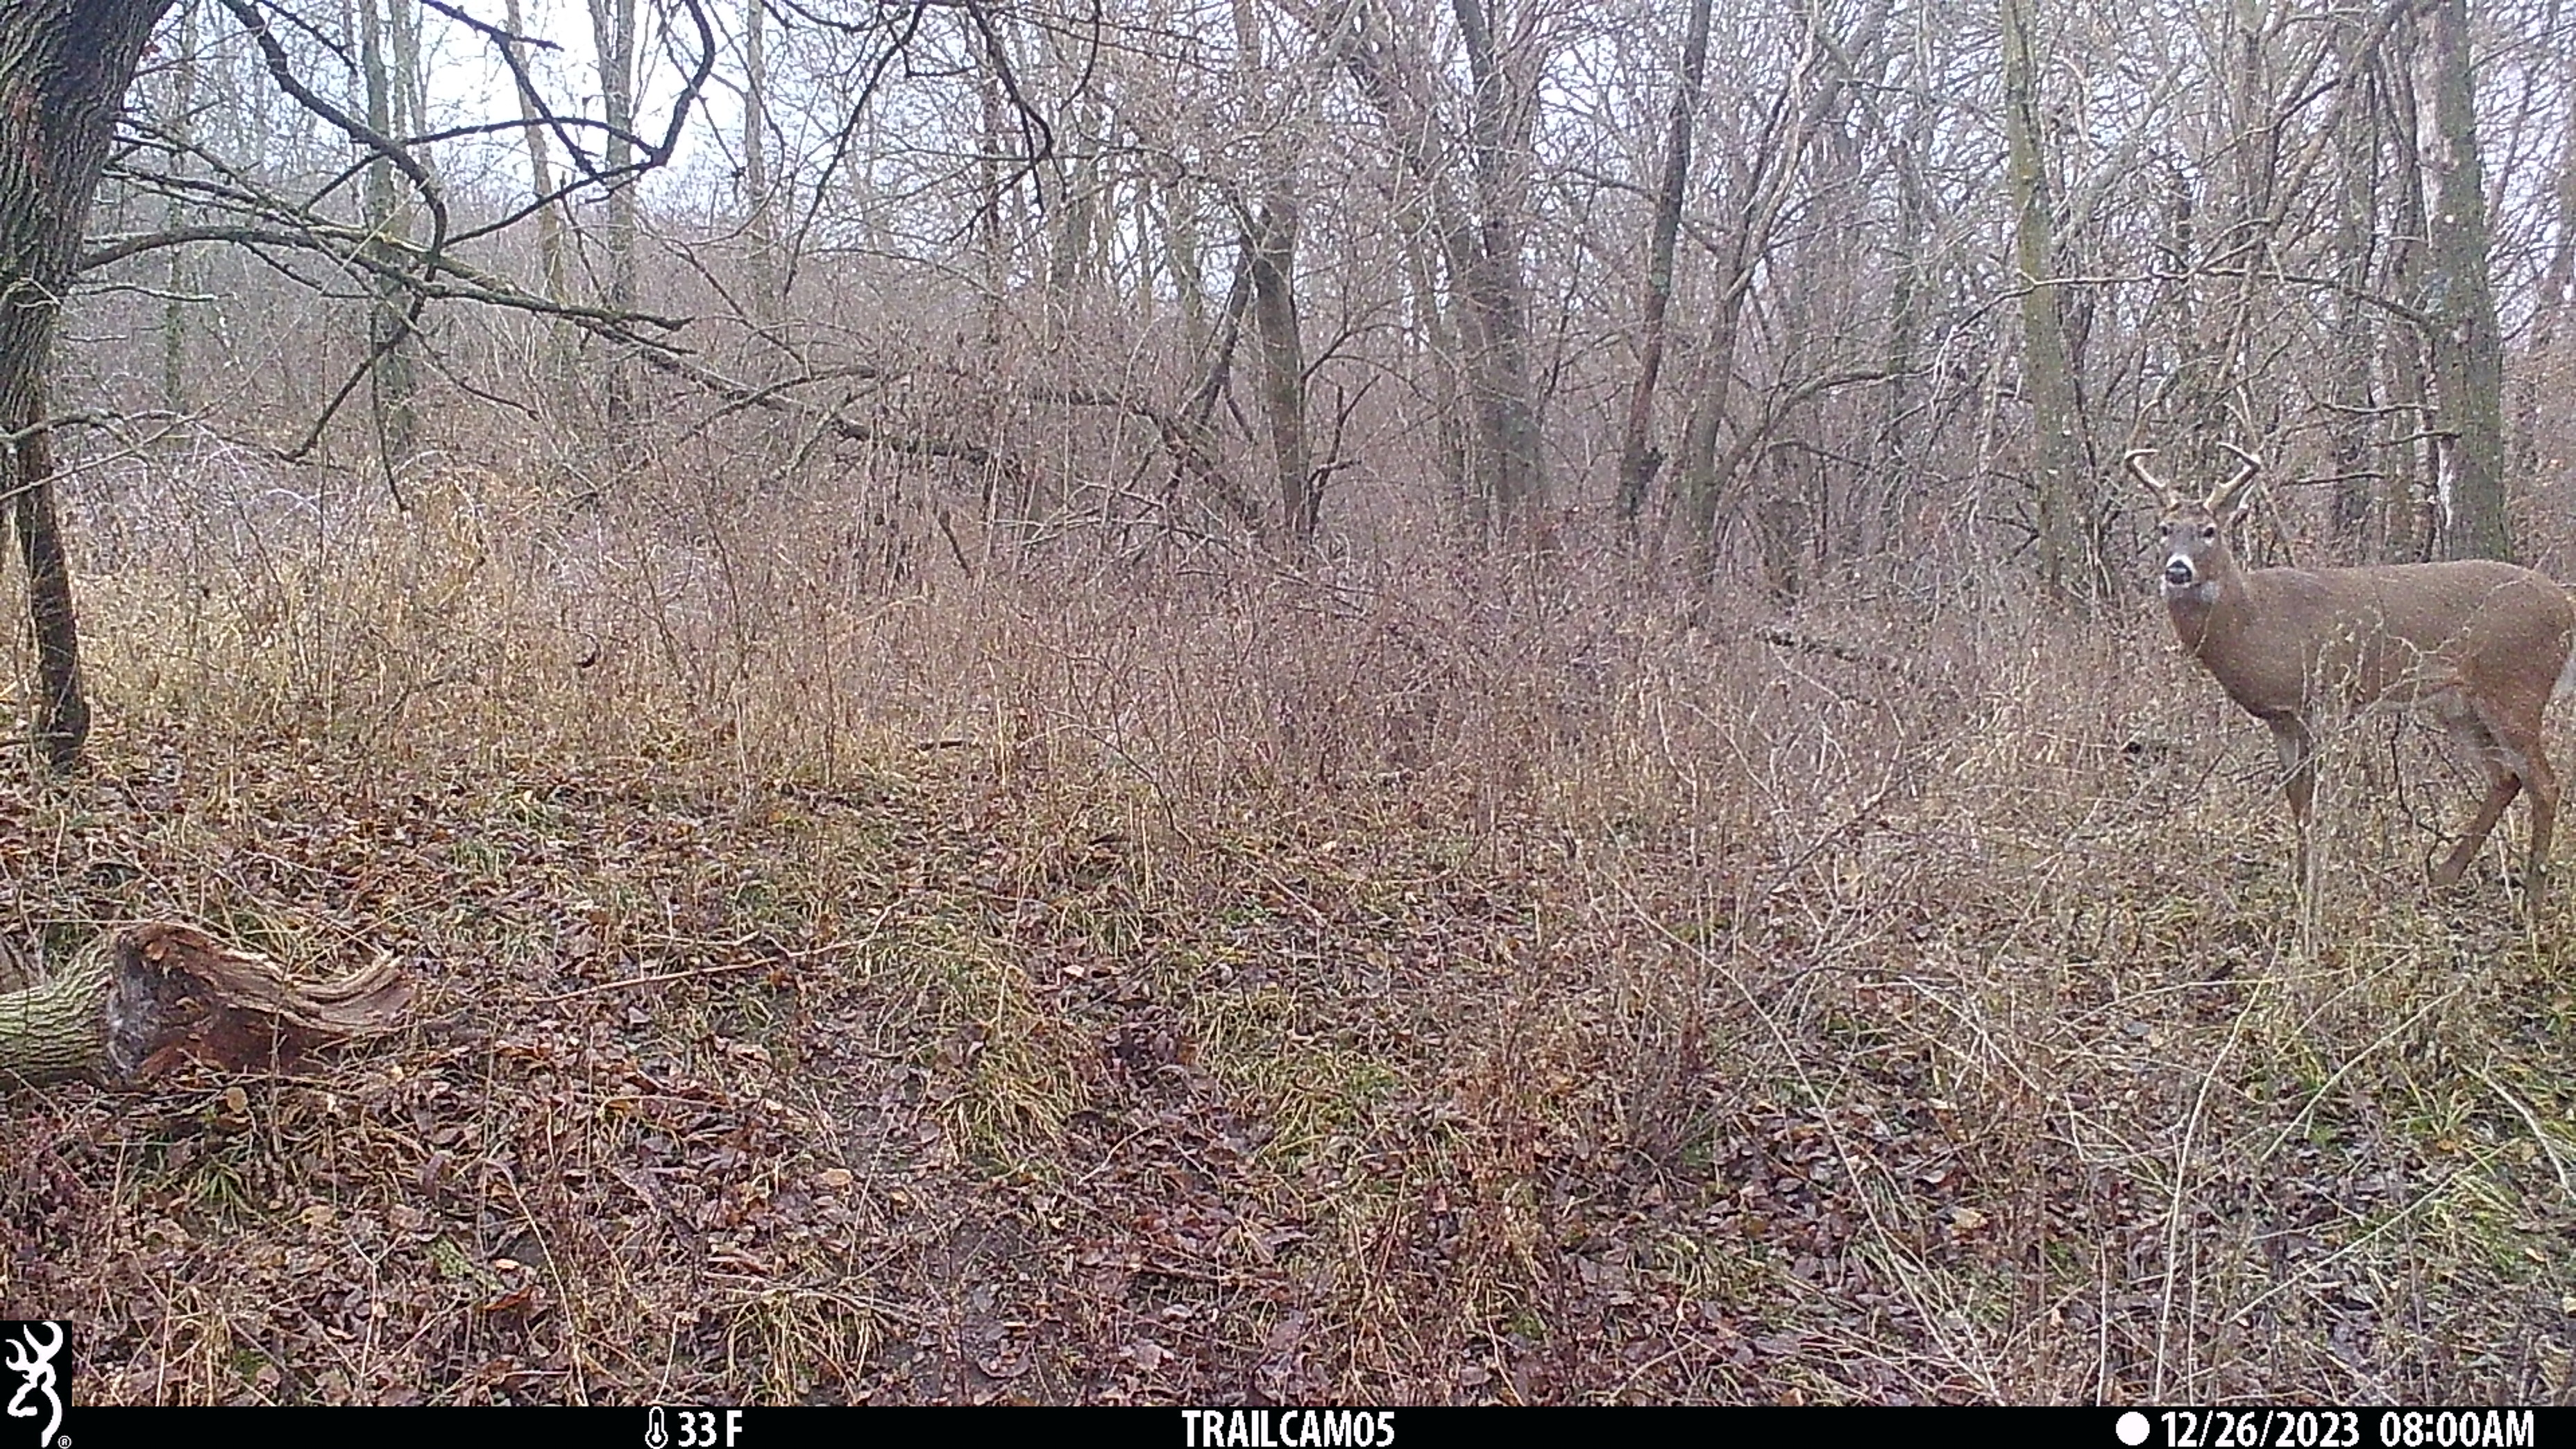DeerBuck: (2119, 384, 2574, 881)
DeerBuckHead: (2119, 384, 2270, 580)
